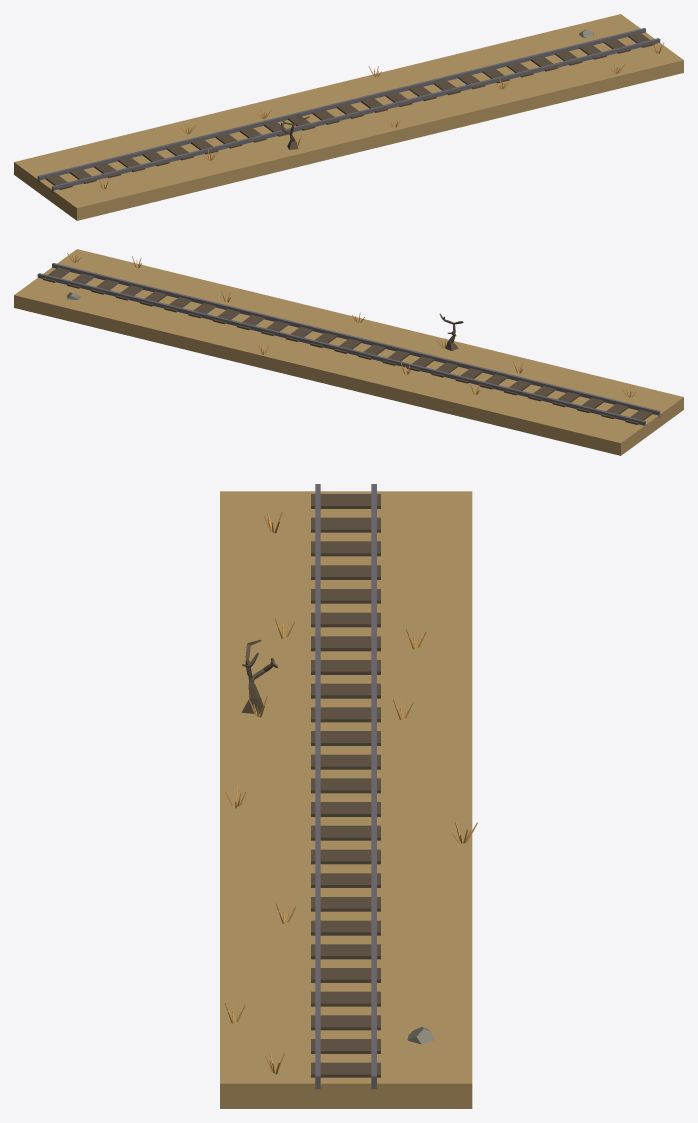
File: Meio-Desolação-4.glb
3 renders of one model, top to bottom at view 1: azimuth 30°, elevation 25°; view 2: azimuth 150°, elevation 25°; view 3: azimuth 270°, elevation 25°, orthographic. The views are drawn at different scales.
Visible parts, largest first — view 1: CHAO.004, TRILHO.004; view 2: CHAO.004, TRILHO.004; view 3: CHAO.004, TRILHO.004.
Part boxes in pixels (bbox=[...]): CHAO.004: bbox=[14, 14, 683, 220]; TRILHO.004: bbox=[37, 28, 660, 193]; CHAO.004: bbox=[14, 249, 683, 455]; TRILHO.004: bbox=[37, 263, 660, 425]; CHAO.004: bbox=[220, 491, 472, 1108]; TRILHO.004: bbox=[311, 484, 380, 1088].
Size of the model in its own units: 50 by 3.47 by 9.21.
